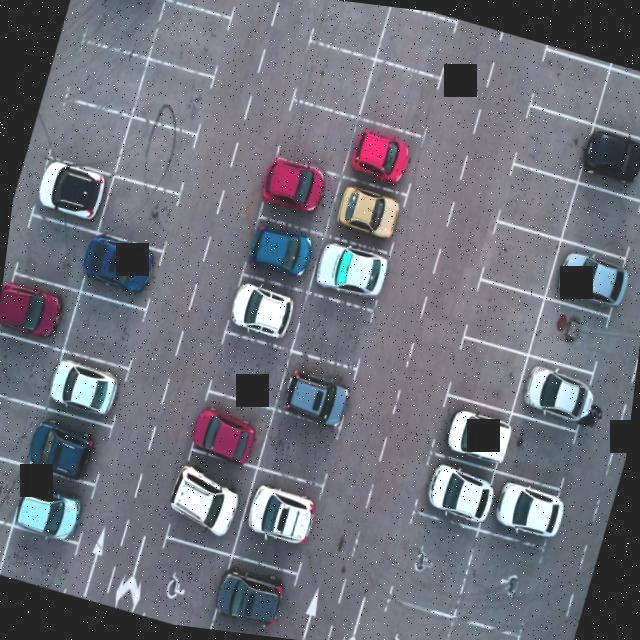space-empty: (388, 508, 480, 615), (456, 534, 544, 636), (139, 540, 231, 630), (459, 276, 548, 358), (111, 117, 201, 197), (526, 49, 614, 129), (131, 57, 217, 138), (45, 95, 131, 174), (94, 171, 183, 247), (478, 222, 564, 300), (494, 164, 583, 239), (292, 288, 374, 368), (495, 412, 580, 489), (358, 60, 441, 138), (444, 338, 528, 414), (62, 294, 145, 370), (292, 46, 377, 120), (210, 334, 295, 406), (13, 211, 94, 286), (277, 100, 361, 171), (510, 113, 592, 184), (561, 183, 640, 256), (261, 413, 341, 485), (66, 45, 145, 115), (532, 302, 613, 369), (378, 6, 459, 73), (0, 527, 79, 593), (150, 11, 229, 76), (306, 0, 391, 54), (0, 335, 62, 407), (85, 0, 163, 56), (0, 389, 45, 471), (371, 598, 457, 640), (597, 68, 640, 141), (0, 452, 31, 527), (162, 0, 246, 25), (437, 617, 519, 640), (0, 510, 14, 574)
space-occupied: (166, 448, 259, 553), (235, 466, 323, 572), (210, 556, 300, 639), (78, 225, 166, 308), (510, 355, 594, 435), (415, 450, 497, 530), (226, 275, 310, 351), (15, 465, 97, 541), (481, 470, 564, 545), (277, 352, 360, 427), (30, 407, 113, 482), (243, 215, 327, 288), (192, 393, 278, 464), (51, 347, 132, 422), (0, 275, 78, 351), (262, 162, 344, 233), (30, 156, 110, 228), (326, 178, 408, 247), (344, 119, 426, 188), (432, 396, 511, 466), (548, 242, 626, 308), (311, 236, 388, 299), (577, 128, 640, 203)
